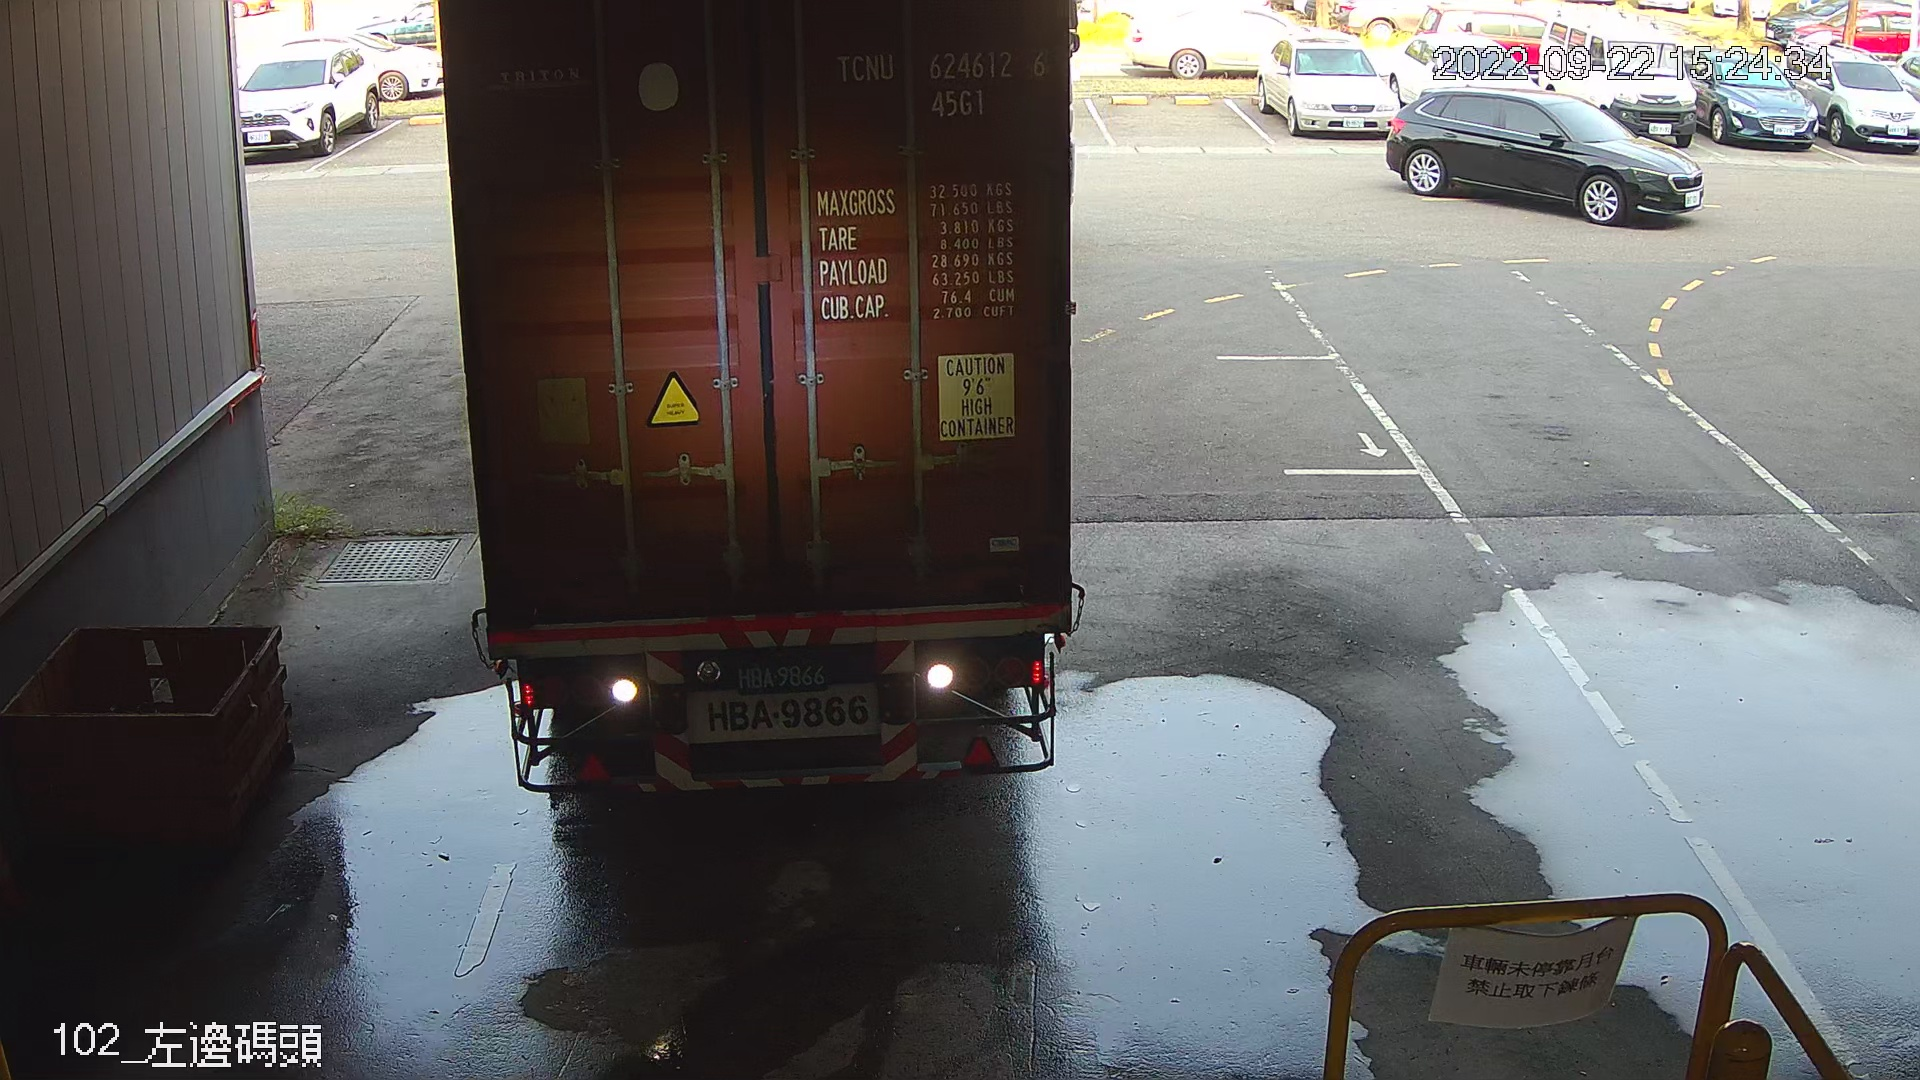container: (825, 41, 1058, 124)
